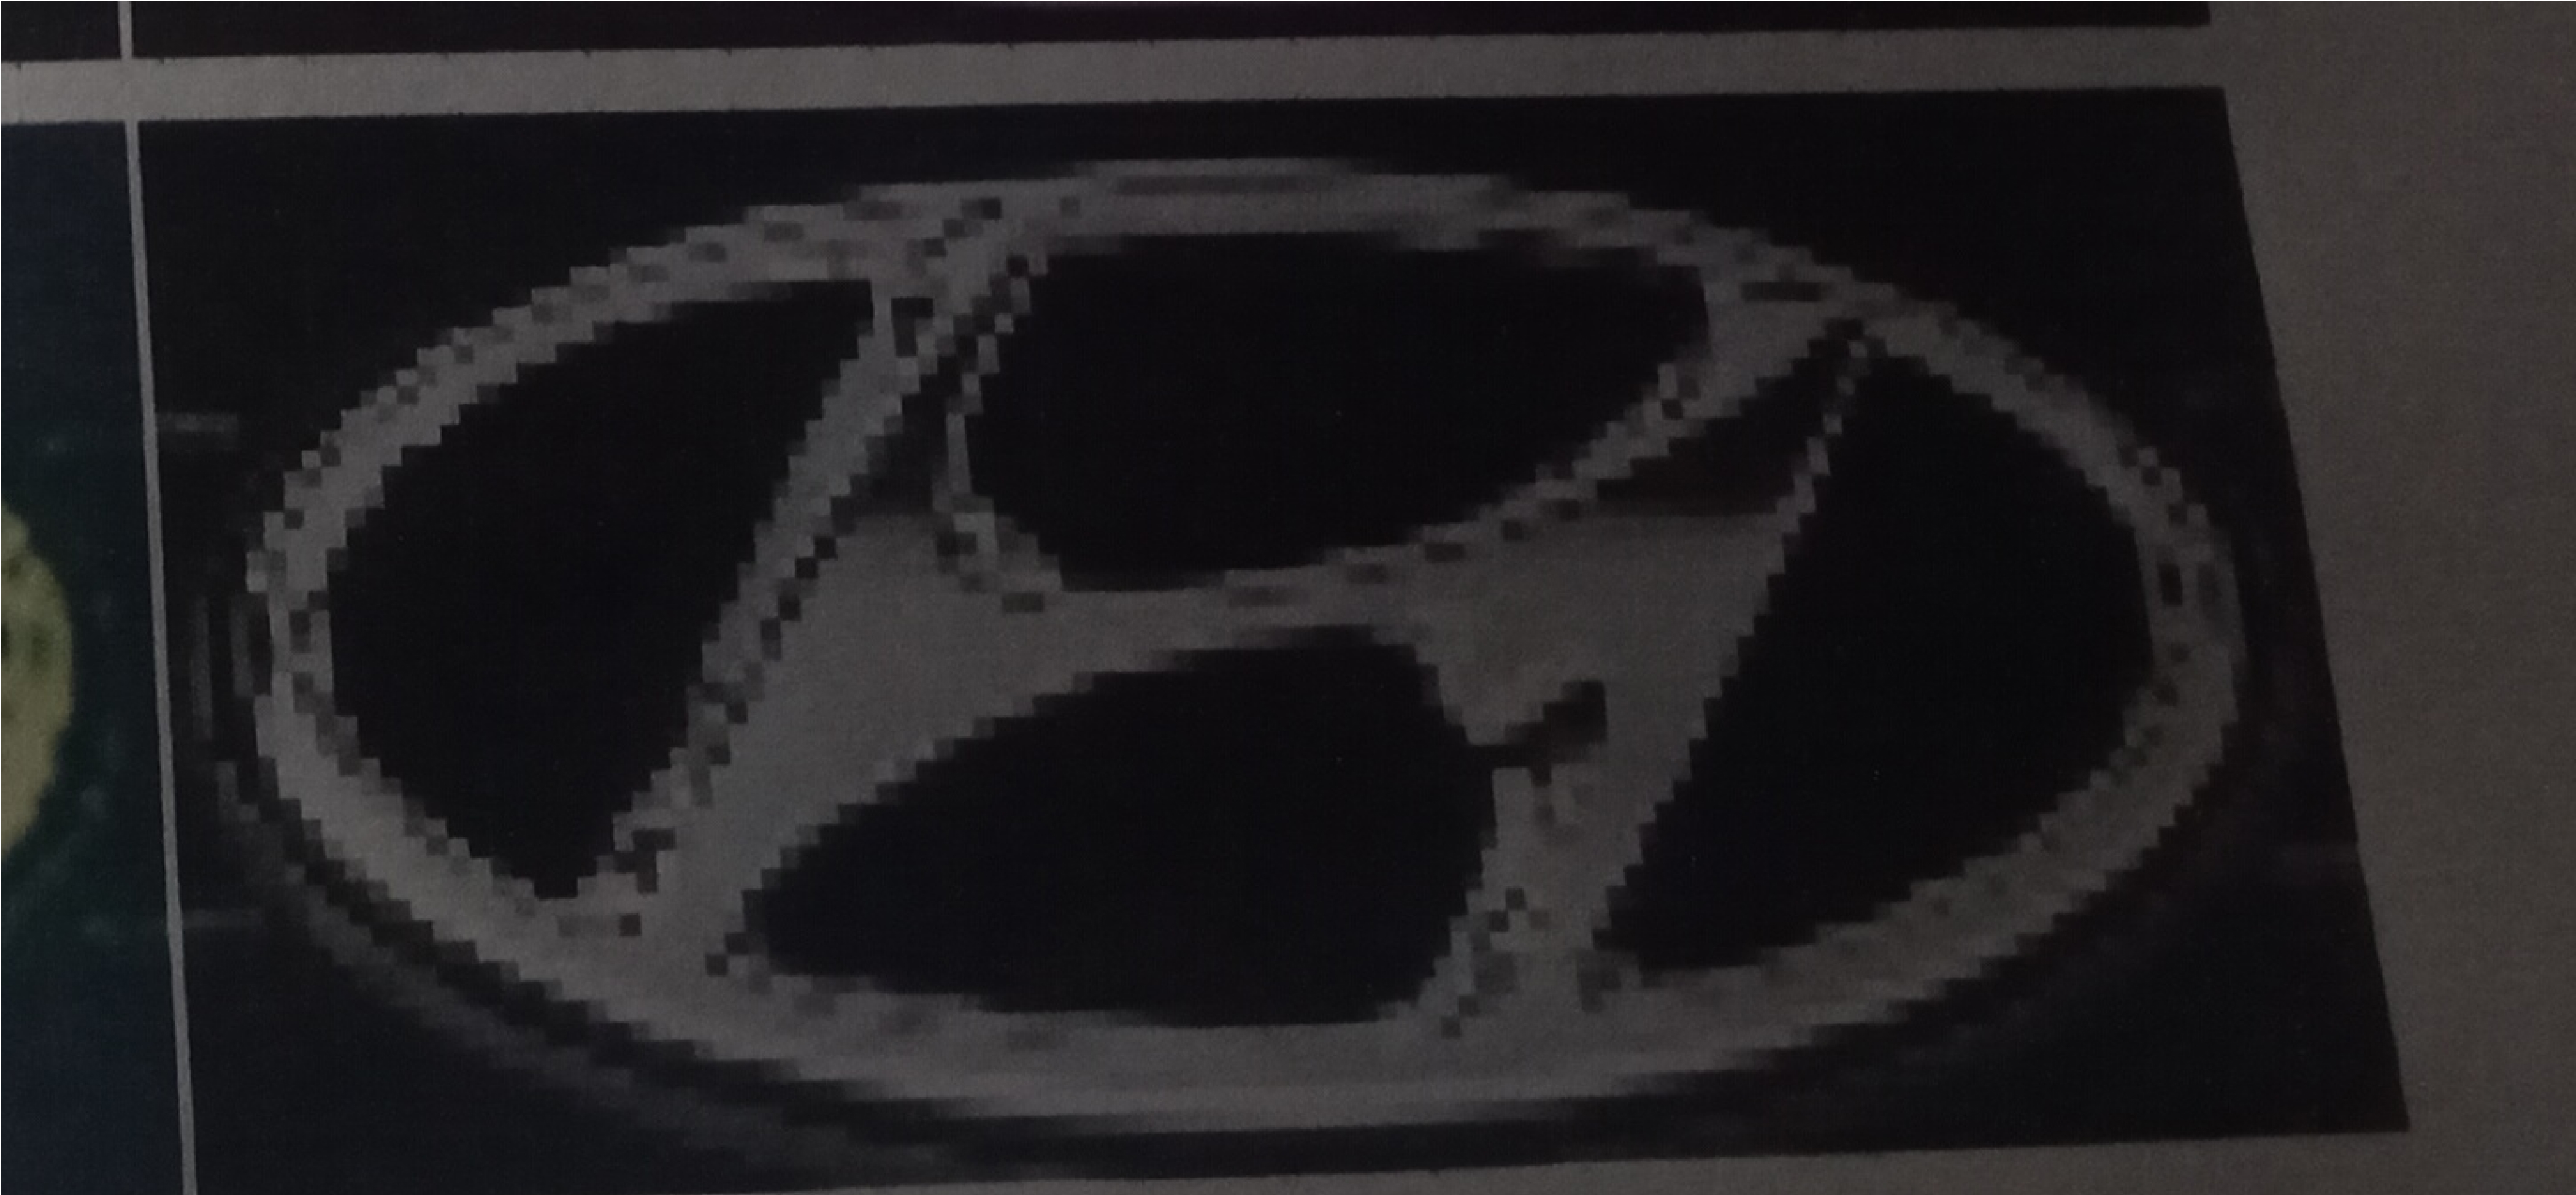Hyundai: (163, 113, 2354, 1170)
